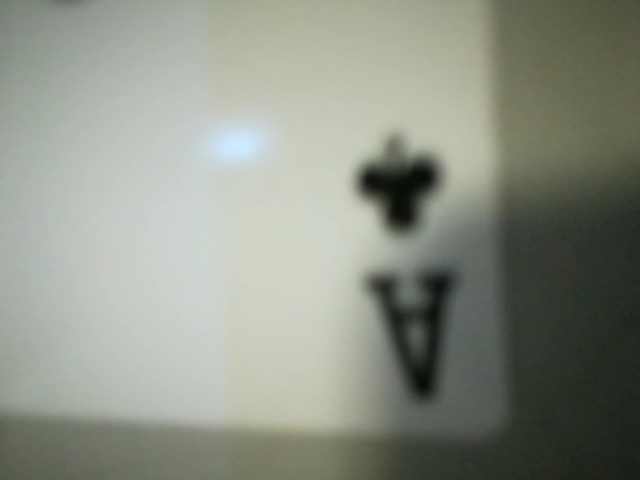mh a: (324, 118, 490, 415)
